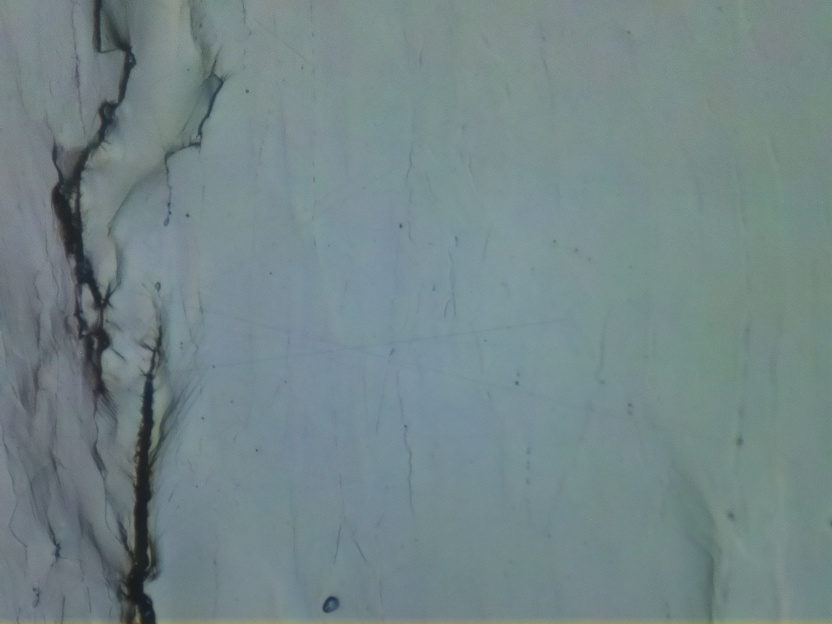crack: (50, 0, 135, 411), (117, 315, 175, 624), (163, 52, 228, 187)
